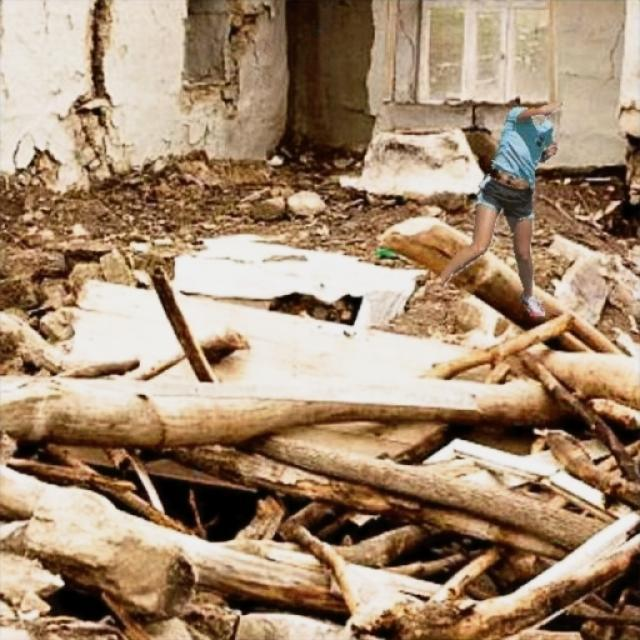Person in Rubble: (441, 101, 561, 315)
